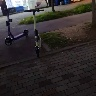beam: (1, 6, 30, 47)
gcooter: (22, 7, 48, 57)
